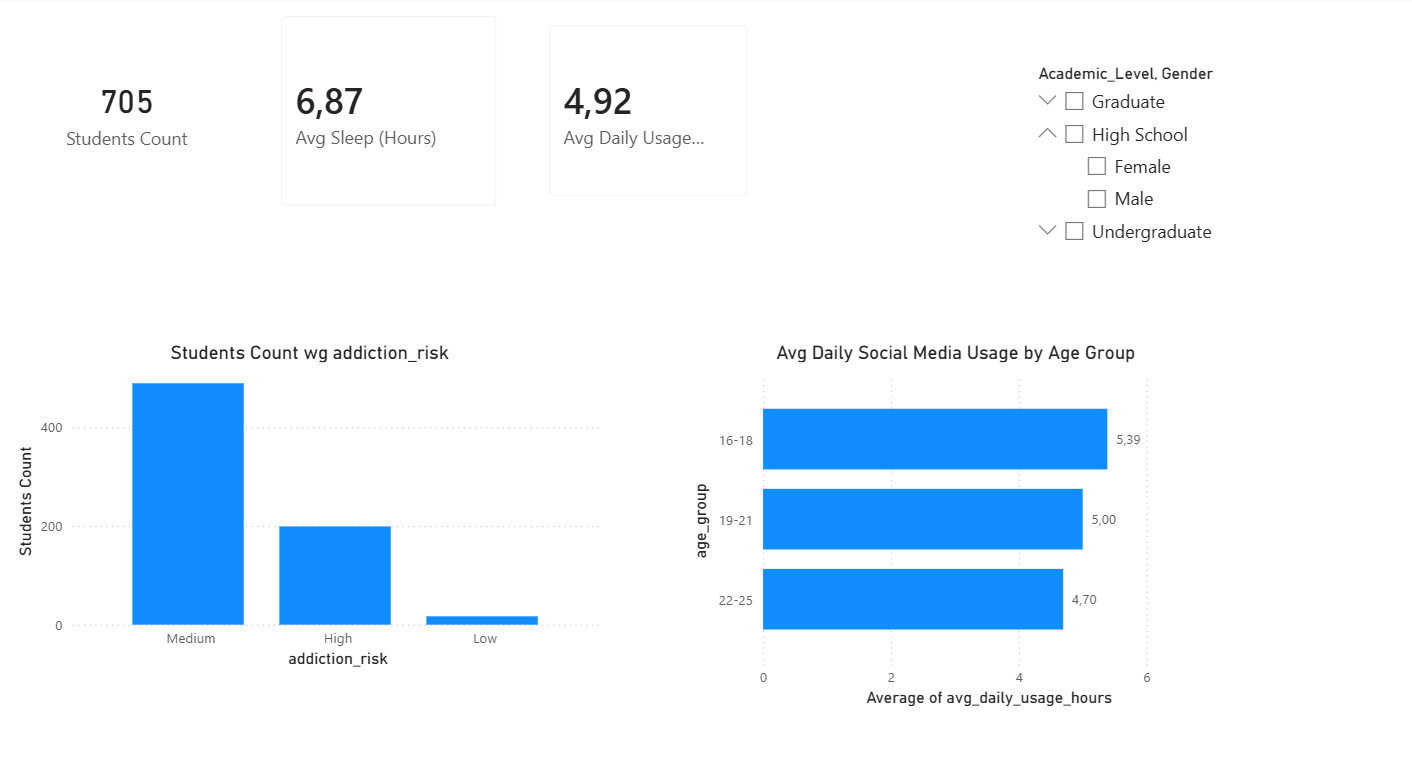

Layout of this report page (visuals, bound fields, positions):
{"tool":"powerbi","page":{"name":"Strona 1","canvas":[1280,720],"ordinal":0},"visuals":[{"type":"card","fields":{"Values":["clean students_social_media_addiction_cleaned.Students Count"]},"box":[0,0,241.5,204.1],"z":0},{"type":"cardVisual","fields":{"Data":["clean students_social_media_addiction_cleaned.Avg Sleep (Hours)"]},"box":[241.5,0,227,204.1],"z":1000},{"type":"columnChart","fields":{"Y":["clean students_social_media_addiction_cleaned.Students Count"],"Category":["clean students_social_media_addiction_cleaned.addiction_risk"]},"box":[16.9,307.9,534.9,297.1],"z":2000},{"type":"cardVisual","fields":{"Data":["clean students_social_media_addiction_cleaned.Avg Daily Usage (Hours)"]},"box":[481.8,8.5,212.5,187.2],"z":3000},{"type":"barChart","title":"Avg Daily Social Media Usage by Age Group","fields":{"Category":["clean students_social_media_addiction_cleaned.age_group"],"Y":["Avg(clean students_social_media_addiction_cleaned.avg_daily_usage_hours)"]},"box":[621.9,307.9,483,332.1],"z":4000},{"type":"slicer","fields":{"Values":["clean students_social_media_addiction_cleaned.Academic_Level","clean students_social_media_addiction_cleaned.Gender"]},"box":[923.8,55.5,327.2,195.6],"z":4001}]}

Visuals, with their boxes in screenshot pixels (x1, y1, x2, y2), scaled from the page's 1280x720 canvas onto the 1412x782 screenshot:
card - clean students_social_media_addiction_cleaned.Students Count: 0, 0, 266, 222
cardVisual - clean students_social_media_addiction_cleaned.Avg Sleep (Hours): 266, 0, 517, 222
columnChart - clean students_social_media_addiction_cleaned.Students Count x clean students_social_media_addiction_cleaned.addiction_risk: 19, 334, 609, 657
cardVisual - clean students_social_media_addiction_cleaned.Avg Daily Usage (Hours): 531, 9, 766, 213
"Avg Daily Social Media Usage by Age Group" barChart: 686, 334, 1219, 695
slicer - clean students_social_media_addiction_cleaned.Academic_Level x clean students_social_media_addiction_cleaned.Gender: 1019, 60, 1380, 273
